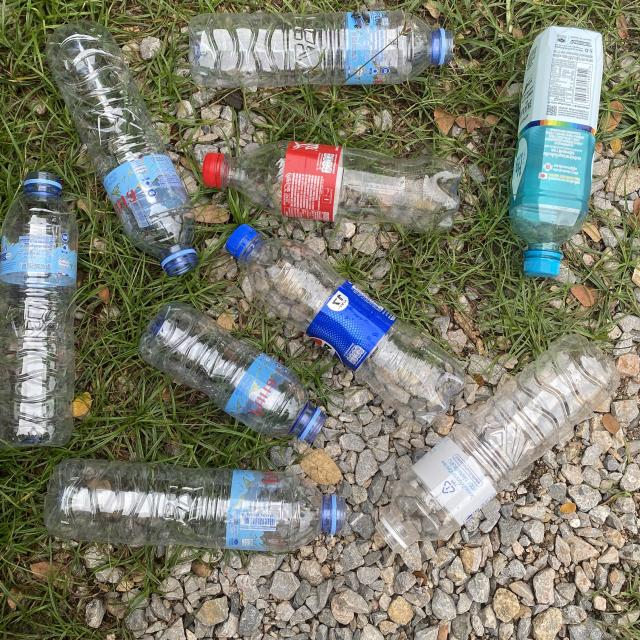plastik: (377, 334, 620, 553), (225, 224, 464, 425), (46, 20, 198, 276), (45, 459, 345, 553), (140, 302, 327, 443), (509, 27, 604, 277), (203, 141, 463, 232), (0, 172, 78, 447), (189, 11, 453, 87)
